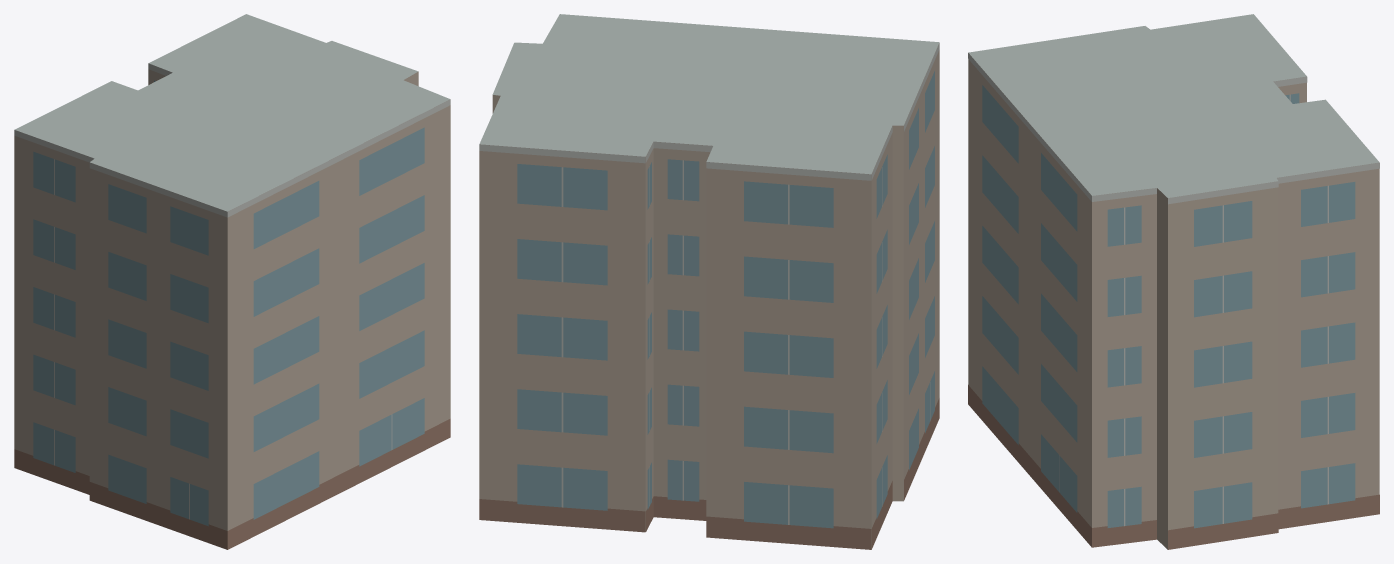
Rendered from survey-upis-32911861.glb.
3 renders of one model, left to right at view 1: azimuth 30°, elevation 25°; view 2: azimuth 150°, elevation 25°; view 3: azimuth 270°, elevation 25°, orthographic. The views are drawn at different scales.
Visible parts, largest first — view 1: survey-upis-32911861.tmp; view 2: survey-upis-32911861.tmp; view 3: survey-upis-32911861.tmp.
Boxes of the visible parts, x1,y1,x2,y2 form: survey-upis-32911861.tmp: [14, 14, 450, 549]; survey-upis-32911861.tmp: [479, 14, 939, 549]; survey-upis-32911861.tmp: [968, 14, 1379, 549].
Size of the model in its own units: 15.73 by 14 by 14.86.
